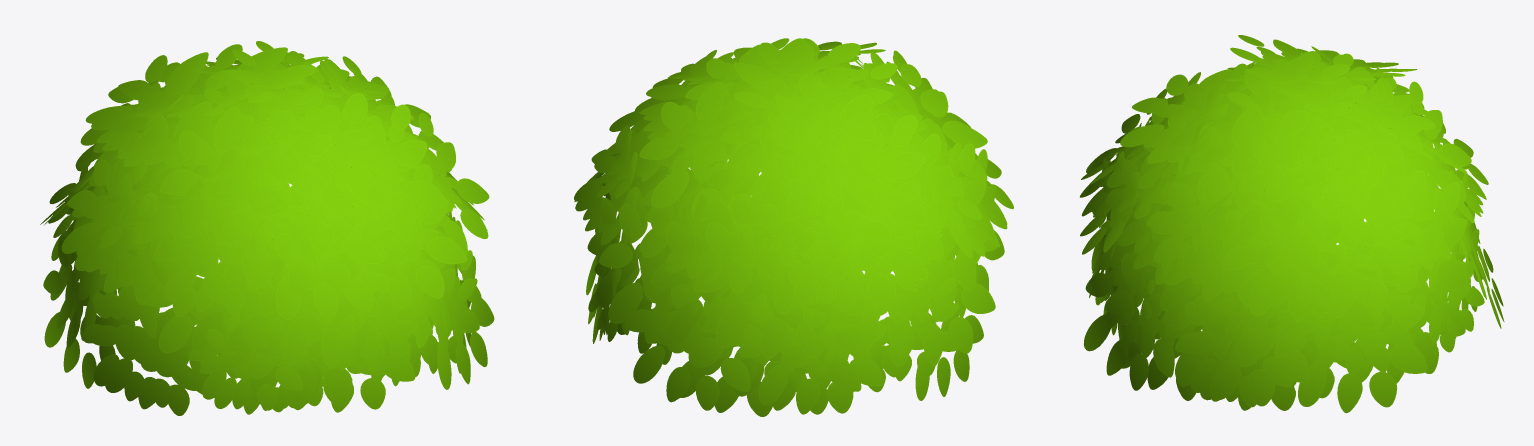
The model's file is bush.glb.
3 views of the same model, side by side, from view 1: azimuth 30°, elevation 25°; view 2: azimuth 150°, elevation 25°; view 3: azimuth 270°, elevation 25° (orthographic). The views are drawn at different scales.
Visible parts, largest first — view 1: Bush; view 2: Bush; view 3: Bush.
Part boxes in pixels (x1=…): Bush: x1=40, y1=41, x2=494, y2=415; Bush: x1=574, y1=38, x2=1013, y2=416; Bush: x1=1080, y1=35, x2=1504, y2=413.
Size of the model in its own units: 1.09 by 0.6916 by 1.05.
1 material, 1 textured.
